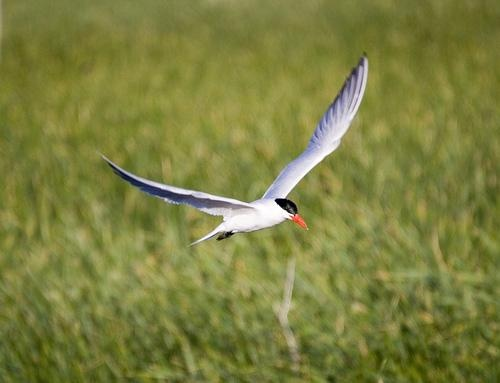bird: (97, 51, 373, 250)
